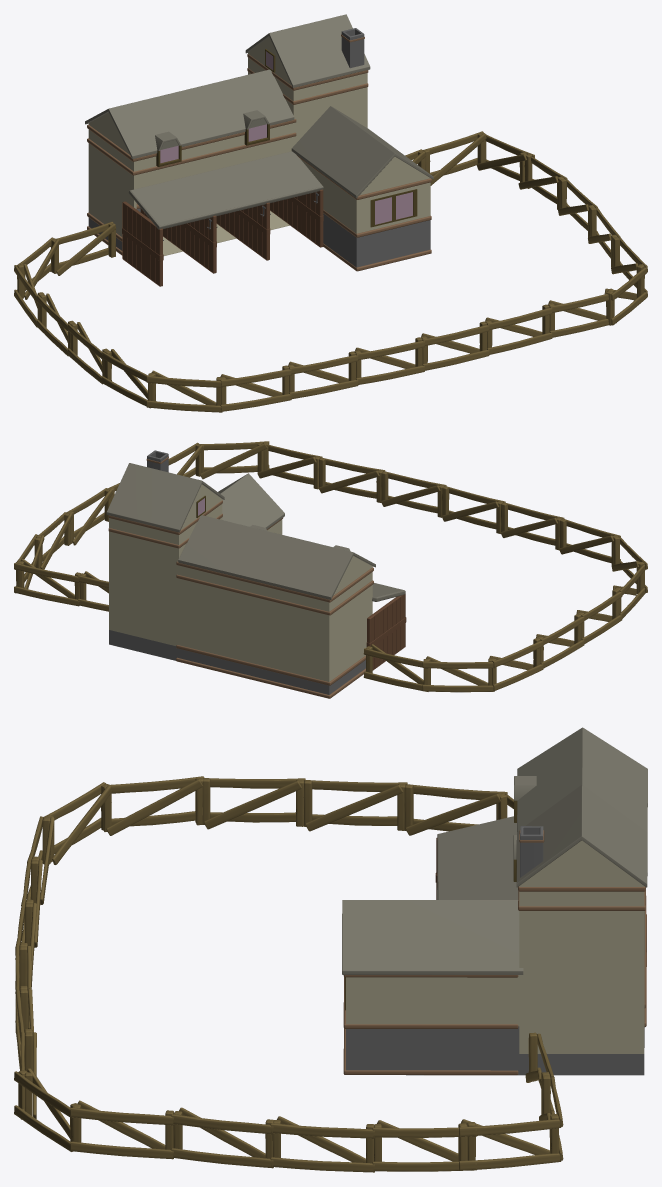
File: Stable.fbx
3 renders of one model, top to bottom at view 1: azimuth 30°, elevation 25°; view 2: azimuth 150°, elevation 25°; view 3: azimuth 270°, elevation 25°, orthographic. The views are drawn at different scales.
Visible parts, largest first — view 1: Fence, MainWalls, MainRoof, StableWall4, StableRoof, Trim, pCube11, pCube10, Window, Window2; view 2: MainWalls, Fence, MainRoof, Trim, StableWall4, StableRoof, pCube10; view 3: MainWalls, Fence, MainRoof, StableRoof, Trim, pCube10.
Part boxes in pixels (x1=…): Fence: x1=14, y1=131, x2=647, y2=412; MainWalls: x1=88, y1=37, x2=430, y2=267; MainRoof: x1=85, y1=14, x2=433, y2=198; StableWall4: x1=122, y1=189, x2=323, y2=286; StableRoof: x1=128, y1=151, x2=323, y2=229; Trim: x1=87, y1=54, x2=431, y2=271; pCube11: x1=370, y1=189, x2=417, y2=227; pCube10: x1=341, y1=28, x2=364, y2=68; Window: x1=155, y1=131, x2=181, y2=166; Window2: x1=243, y1=110, x2=269, y2=145; MainWalls: x1=109, y1=484, x2=372, y2=694; Fence: x1=14, y1=441, x2=647, y2=692; MainRoof: x1=106, y1=463, x2=375, y2=599; Trim: x1=108, y1=500, x2=373, y2=698; StableWall4: x1=366, y1=593, x2=406, y2=670; StableRoof: x1=372, y1=583, x2=405, y2=601; pCube10: x1=146, y1=450, x2=168, y2=472; MainWalls: x1=346, y1=840, x2=644, y2=1075; Fence: x1=14, y1=776, x2=563, y2=1172; MainRoof: x1=342, y1=727, x2=647, y2=974; StableRoof: x1=437, y1=816, x2=518, y2=899; Trim: x1=343, y1=886, x2=646, y2=1075; pCube10: x1=519, y1=826, x2=544, y2=877.
Size of the model in its own units: 148 by 47.67 by 113.
